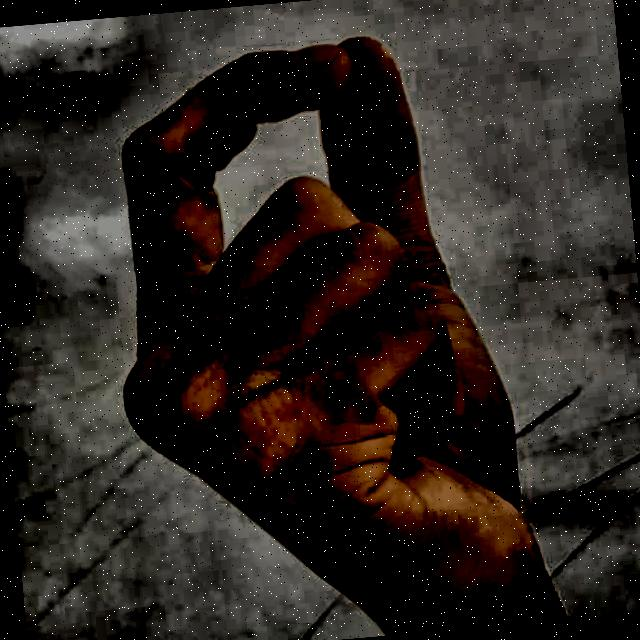Gha: (33, 0, 598, 640)
